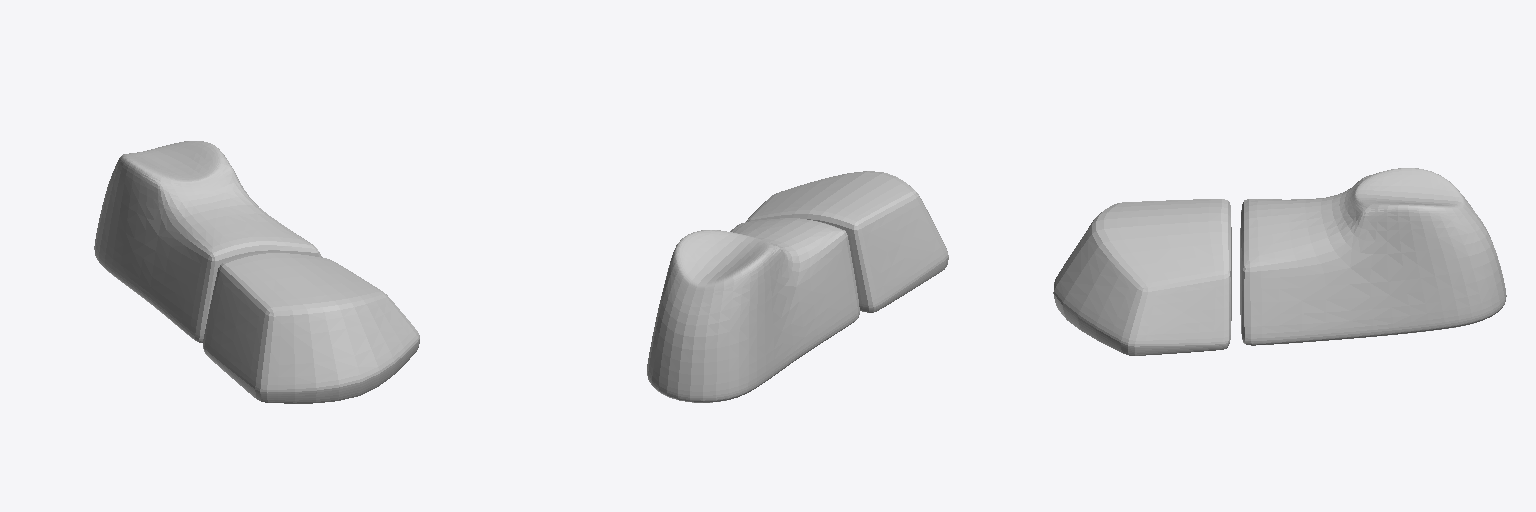
File: FootL.obj
3 views of the same model, side by side, from view 1: azimuth 30°, elevation 25°; view 2: azimuth 150°, elevation 25°; view 3: azimuth 270°, elevation 25° (orthographic).
Visible parts, largest first — view 1: GEO-Body.010_Body.010; view 2: GEO-Body.010_Body.010; view 3: GEO-Body.010_Body.010.
Part boxes in pixels (bbox=[...]): GEO-Body.010_Body.010: bbox=[94, 141, 419, 403]; GEO-Body.010_Body.010: bbox=[647, 171, 948, 402]; GEO-Body.010_Body.010: bbox=[1053, 168, 1506, 355].
Bounding box in the file's own units: 0.1116 × 0.0716 × 0.2451.